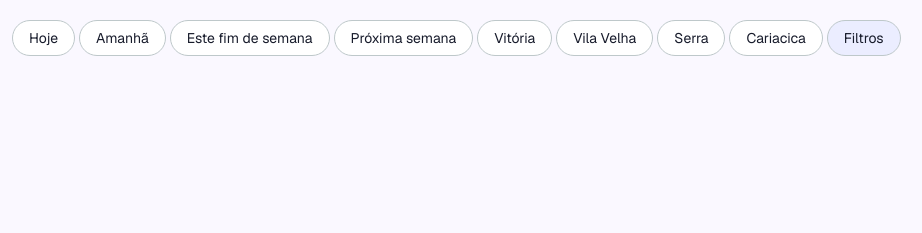
Test: FilterBar › given the Filtros toggle when clicked then the genre/artist panel expands
Check: the text "gênero" is not shown
Click the button "Filtros" at (864, 38), box [827,20,901,56]
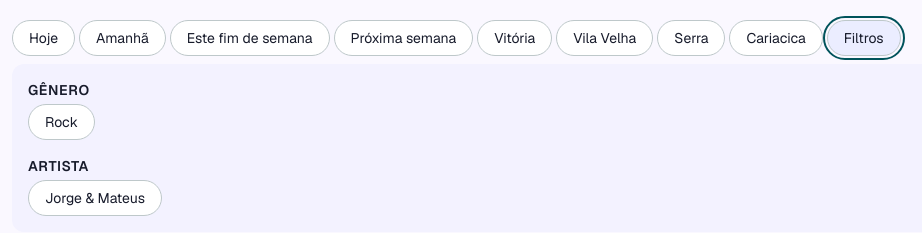
Check: the heading "Gênero" is shown, box [28,81,90,99]
